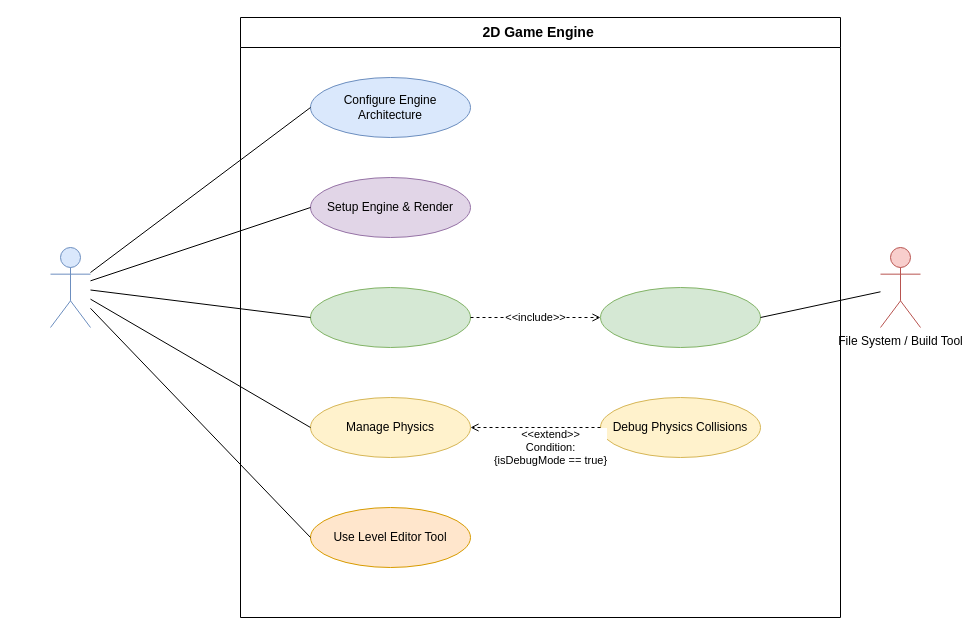
This 980x635 diagram has some shape labels left out. Here are the shapes that lost their labels. From the top down, the centre of each, then its label:
(x=70, y=287): Developer / Learner
(x=390, y=317): Initialize Asset Manager
(x=680, y=317): Load Texture Assets
